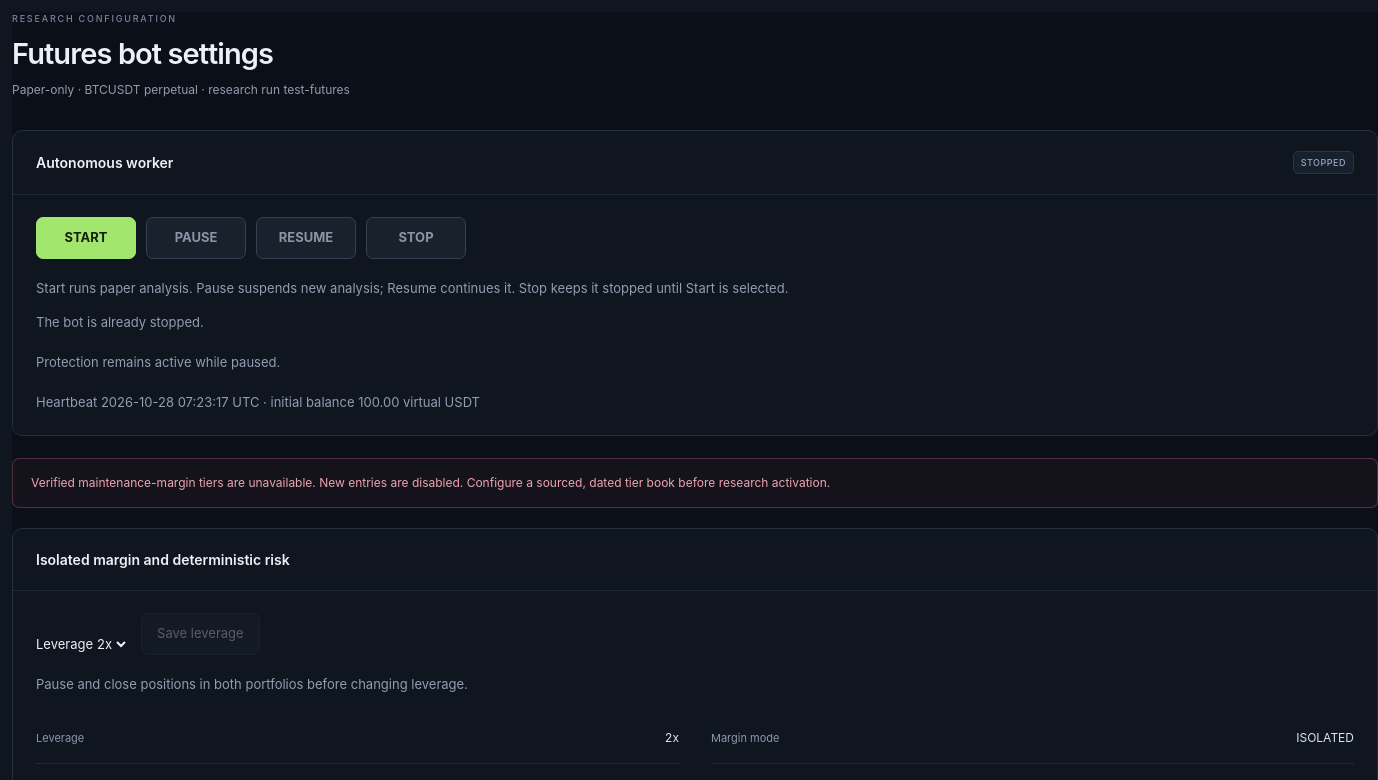
shows rejected commands and releases pending controls
Step 1. Click the button "START" → click(86, 238), box [36,217,136,259]
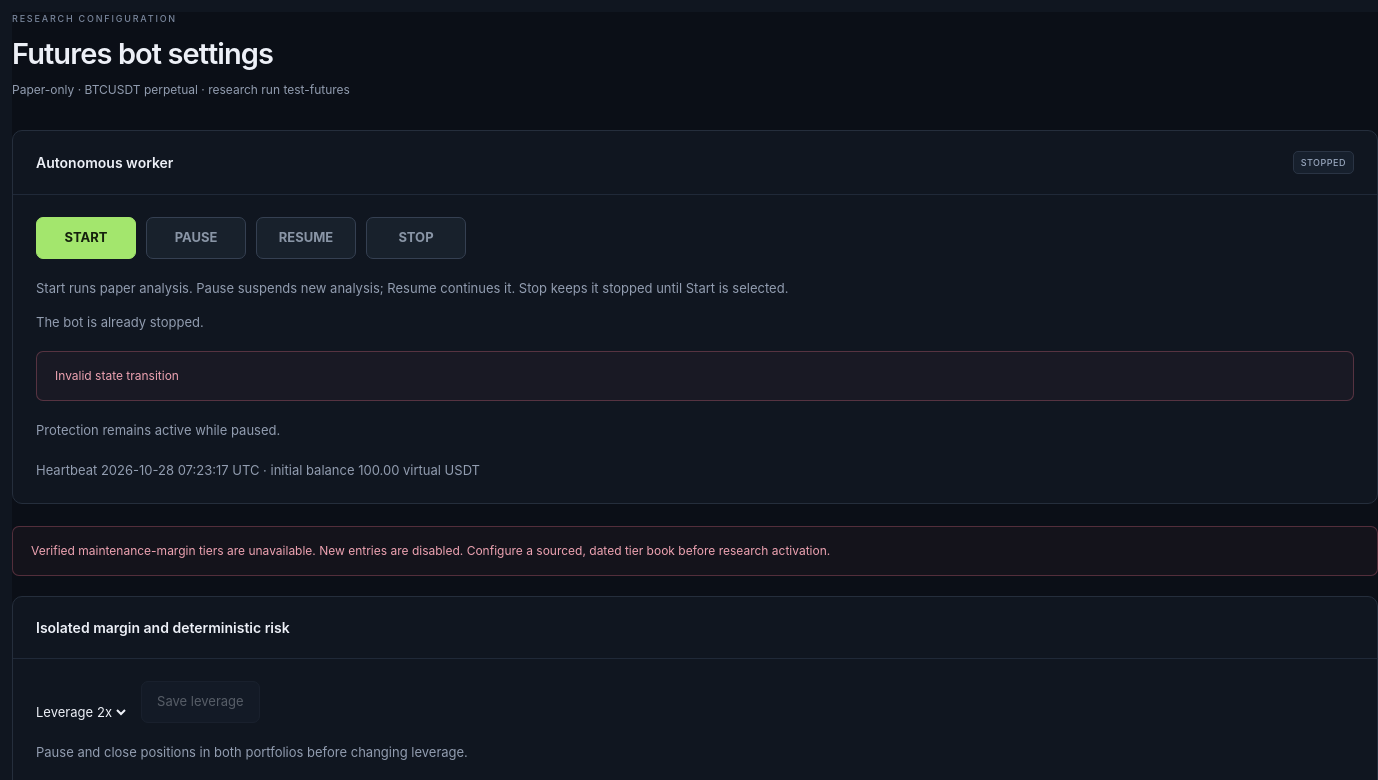
Check: the text "Invalid state transition" is shown, box [36,351,1354,401]
